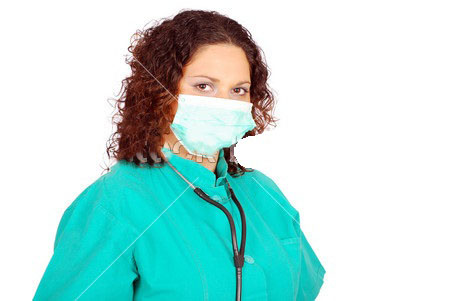face_mask: (175, 44, 252, 154)
